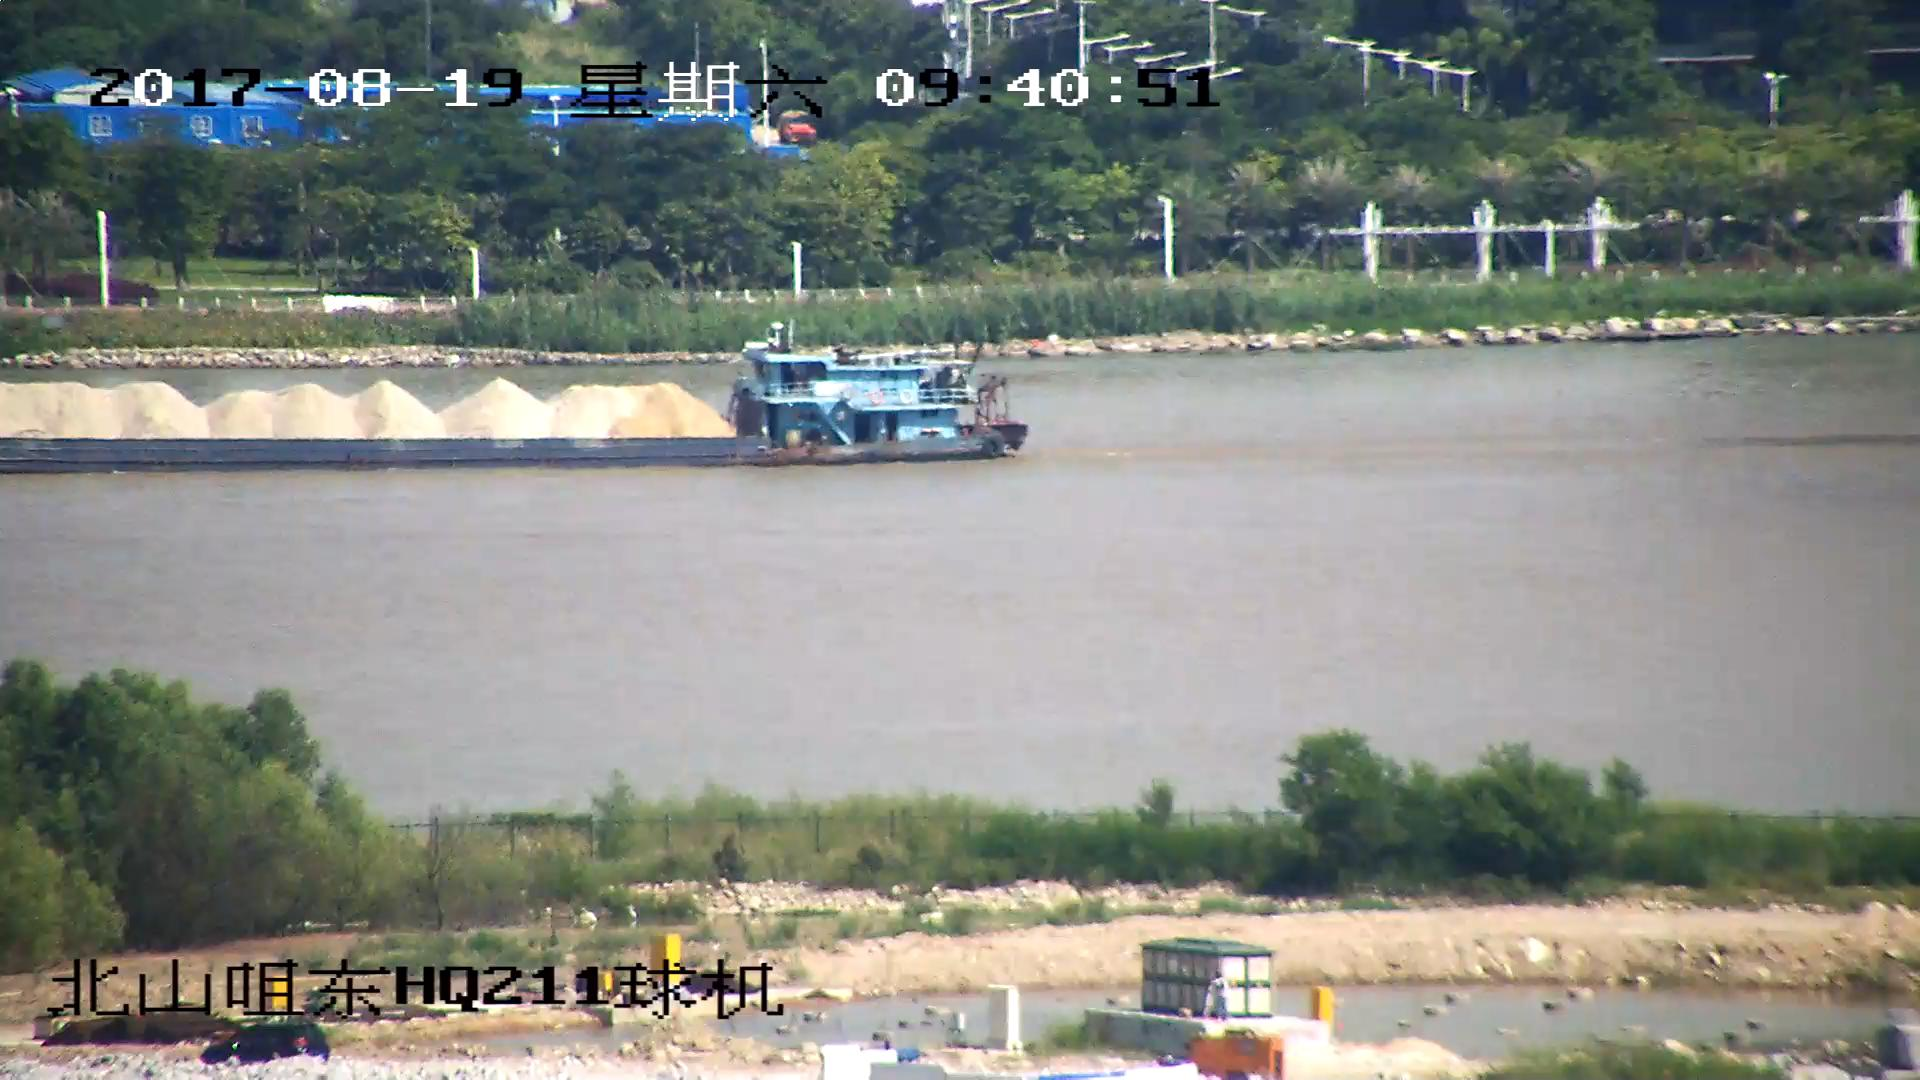ore carrier: (1, 320, 1027, 469)
